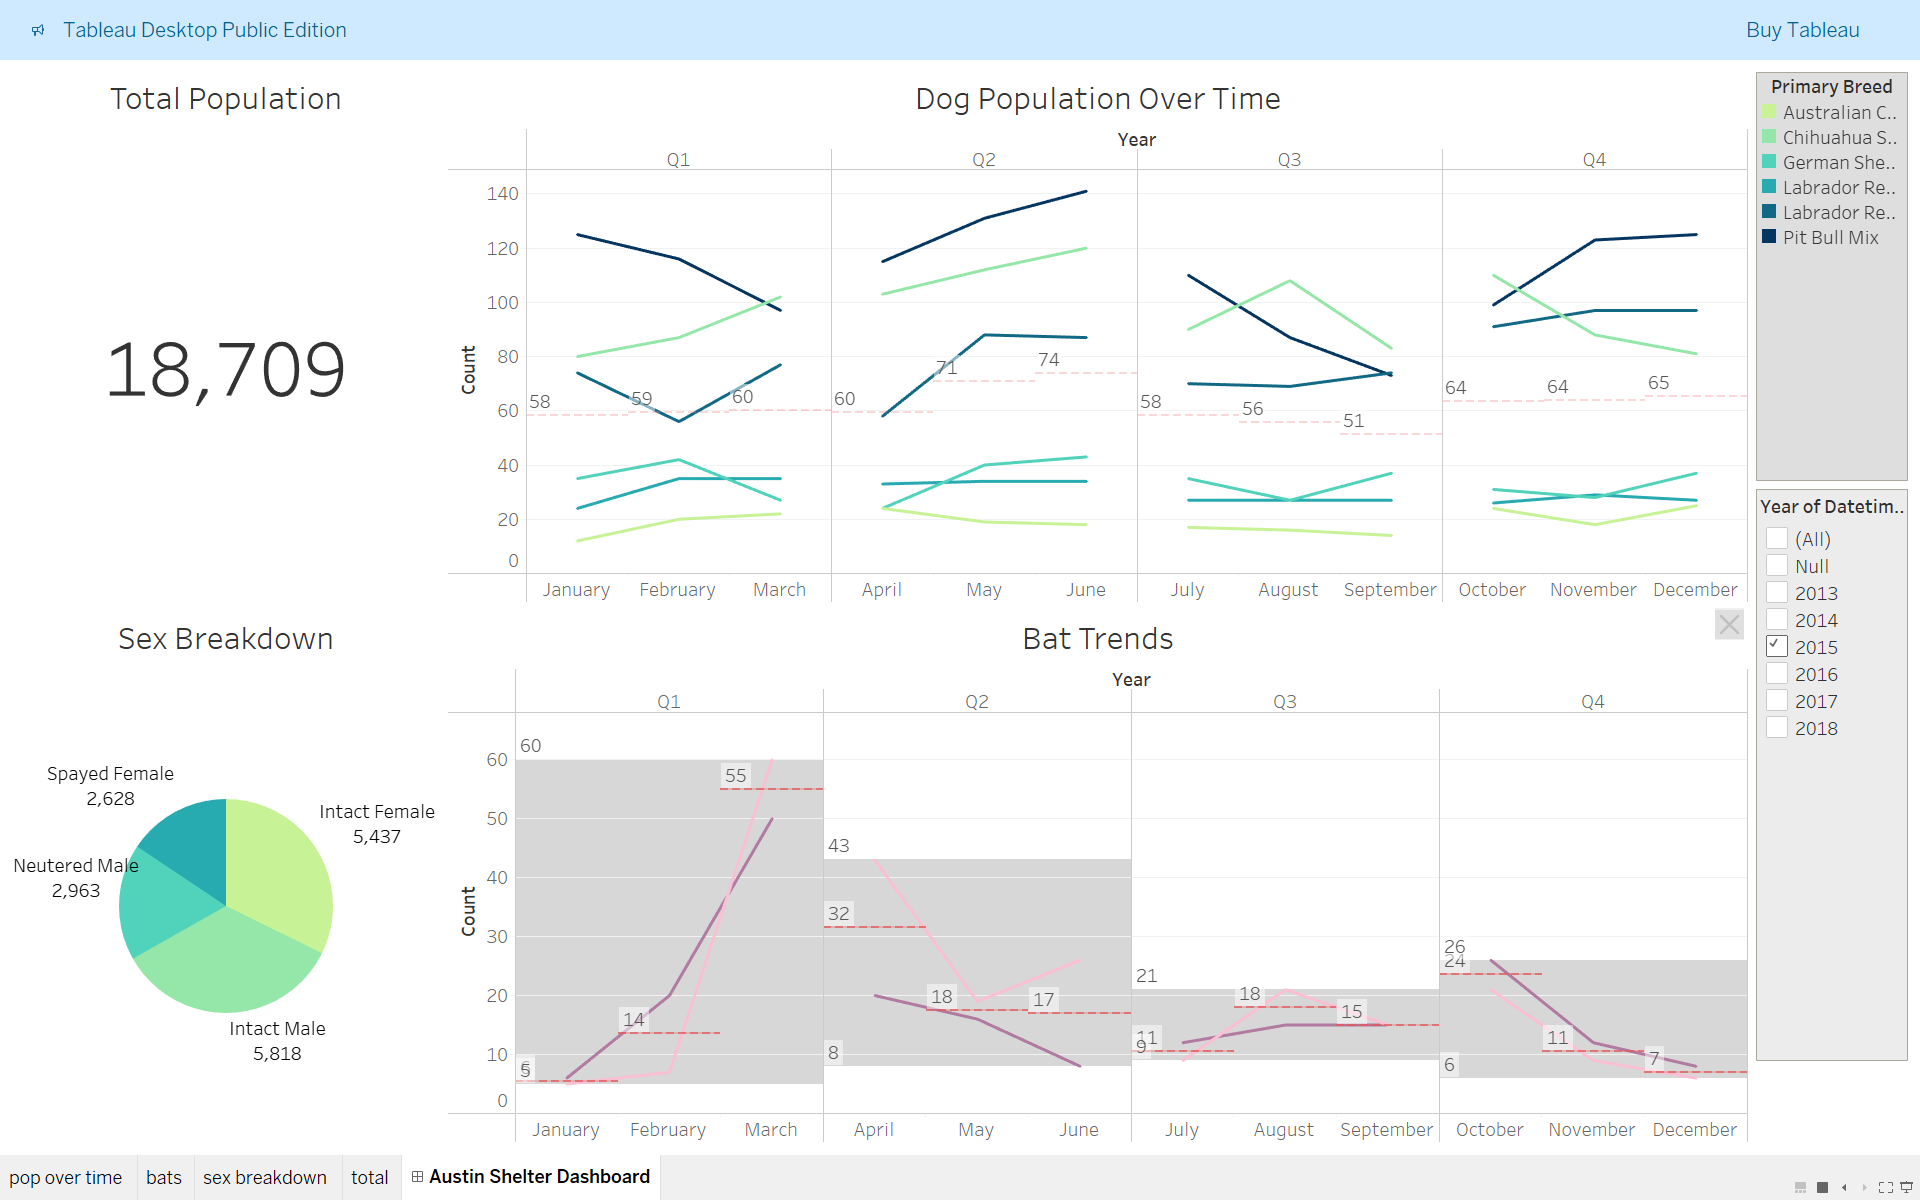

The dashboard page shown, as its layout file describes it:
{"tool":"tableau","page":{"name":"Austin Shelter Dashboard","canvas":[1000,1000],"units":"permille","ordinal":0},"visuals":[{"type":"worksheet","title":"total","mark":"Automatic","box":[4.3,9.8,226.3,490.2]},{"type":"worksheet","title":"pop over time","mark":"Automatic","rows":["Working Intakes_8B9D8FF0121B48D5B5B6909222D4542D"],"cols":["Year","Year"],"box":[230.6,9.8,678.8,490.2]},{"type":"legend","title":"pop over time","param":"[federated.1eme2z41n42q171at1x1209kciz9].[none:primary_breed:nk]","box":[909.3,9.8,86.4,490.2]},{"type":"worksheet","title":"sex breakdown","mark":"Pie","box":[4.3,500,226.4,490.2]},{"type":"worksheet","title":"bats","mark":"Automatic","rows":["Working Intakes_8B9D8FF0121B48D5B5B6909222D4542D"],"cols":["Year","Year"],"box":[230.7,500,678.6,490.2]},{"type":"dashboard-object","box":[893.3,500,15.2,29.6]},{"type":"filter","title":"pop over time","param":"[federated.1eme2z41n42q171at1x1209kciz9].[yr:datetime2:ok]","box":[909.3,500,86.4,490.2]}]}

Visuals, with their boxes on the dashboard's canvas, which has no fixed pixel size, in thousandths of its width and height (x1, y1, x2, y2). These are canvas units, not pixel positions in the 1920x1200 screenshot, which may show the page scaled, cropped or inside an application window:
"total" worksheet: {"x1": 4, "y1": 10, "x2": 231, "y2": 500}
"pop over time" worksheet: {"x1": 231, "y1": 10, "x2": 909, "y2": 500}
"pop over time" legend: {"x1": 909, "y1": 10, "x2": 996, "y2": 500}
"sex breakdown" worksheet (Pie marks): {"x1": 4, "y1": 500, "x2": 231, "y2": 990}
"bats" worksheet: {"x1": 231, "y1": 500, "x2": 909, "y2": 990}
dashboard-object: {"x1": 893, "y1": 500, "x2": 908, "y2": 530}
"pop over time" filter: {"x1": 909, "y1": 500, "x2": 996, "y2": 990}
